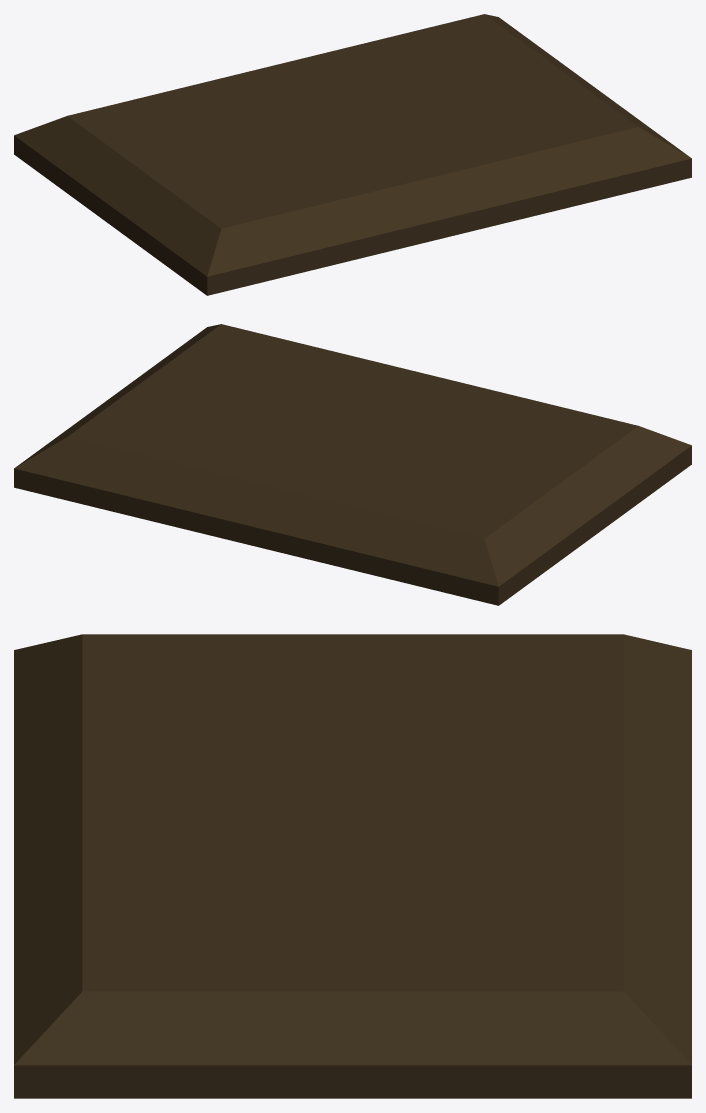
The model's file is Itr_Table4_Top_02.FBX.
3 renders of one model, top to bottom at view 1: azimuth 30°, elevation 25°; view 2: azimuth 150°, elevation 25°; view 3: azimuth 270°, elevation 25°, orthographic. The views are drawn at different scales.
Visible parts, largest first — view 1: Itr_Table4_Top_02; view 2: Itr_Table4_Top_02; view 3: Itr_Table4_Top_02.
Part boxes in pixels (box(x1,y1,x2,y2)): Itr_Table4_Top_02: box(14, 14, 691, 295); Itr_Table4_Top_02: box(14, 324, 691, 605); Itr_Table4_Top_02: box(14, 634, 691, 1098).
Size of the model in its own units: 58.16 by 5.12 by 40.15.
